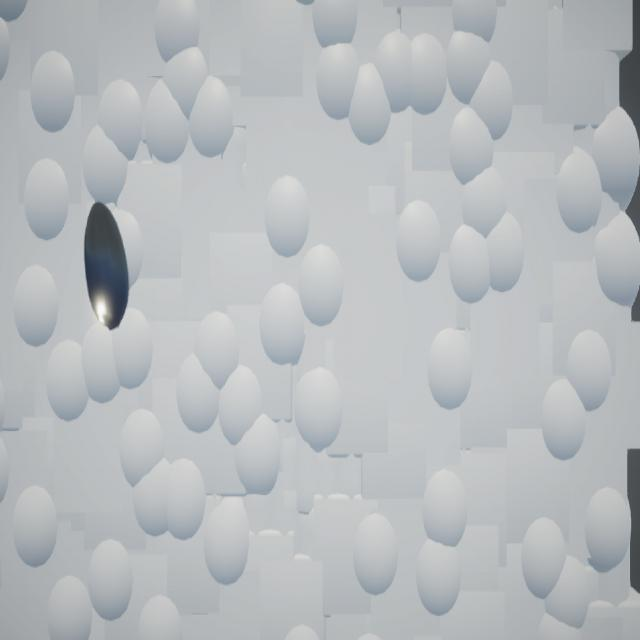top_spoon: (85, 203, 131, 332)
